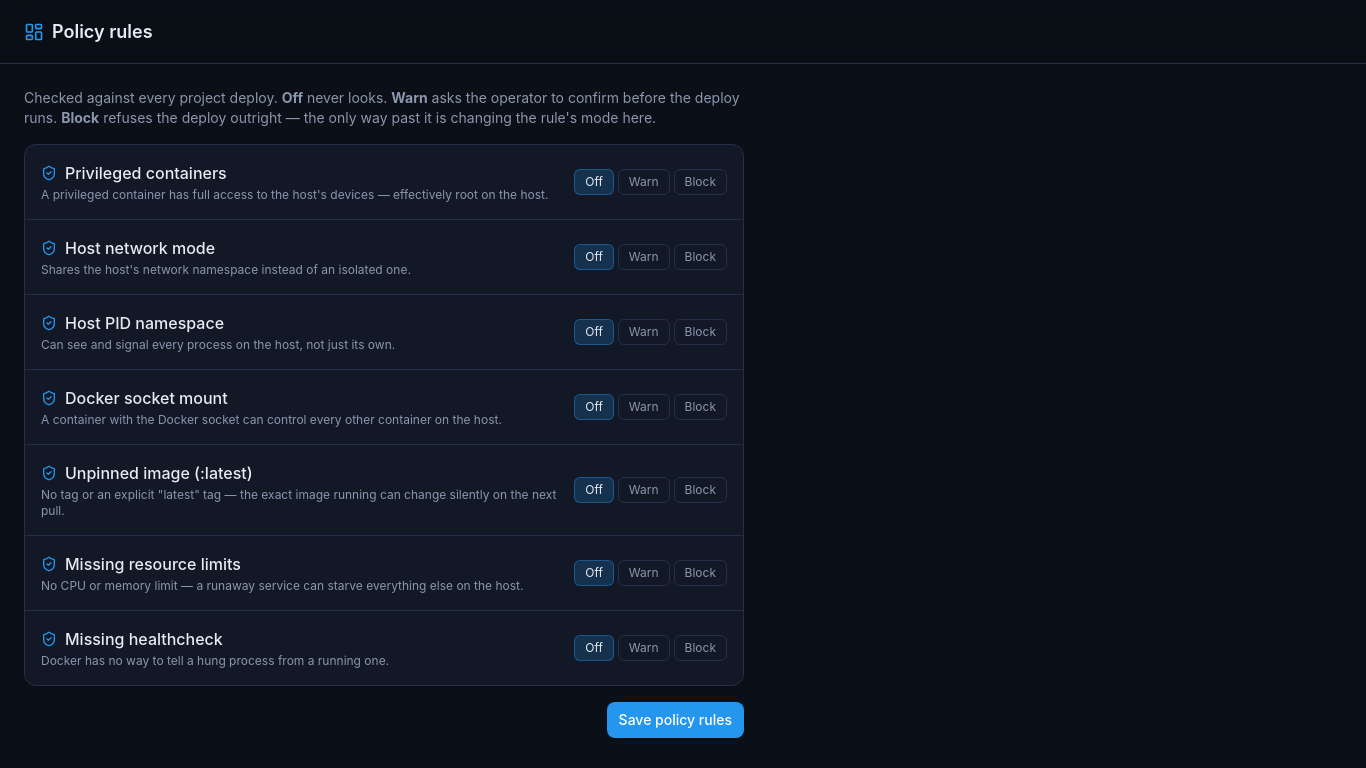
Scenario: PolicyRules › shows a failed save distinctly from a successful one
Click the button "Save policy rules" at (675, 720), box 607,702 -> 744,738
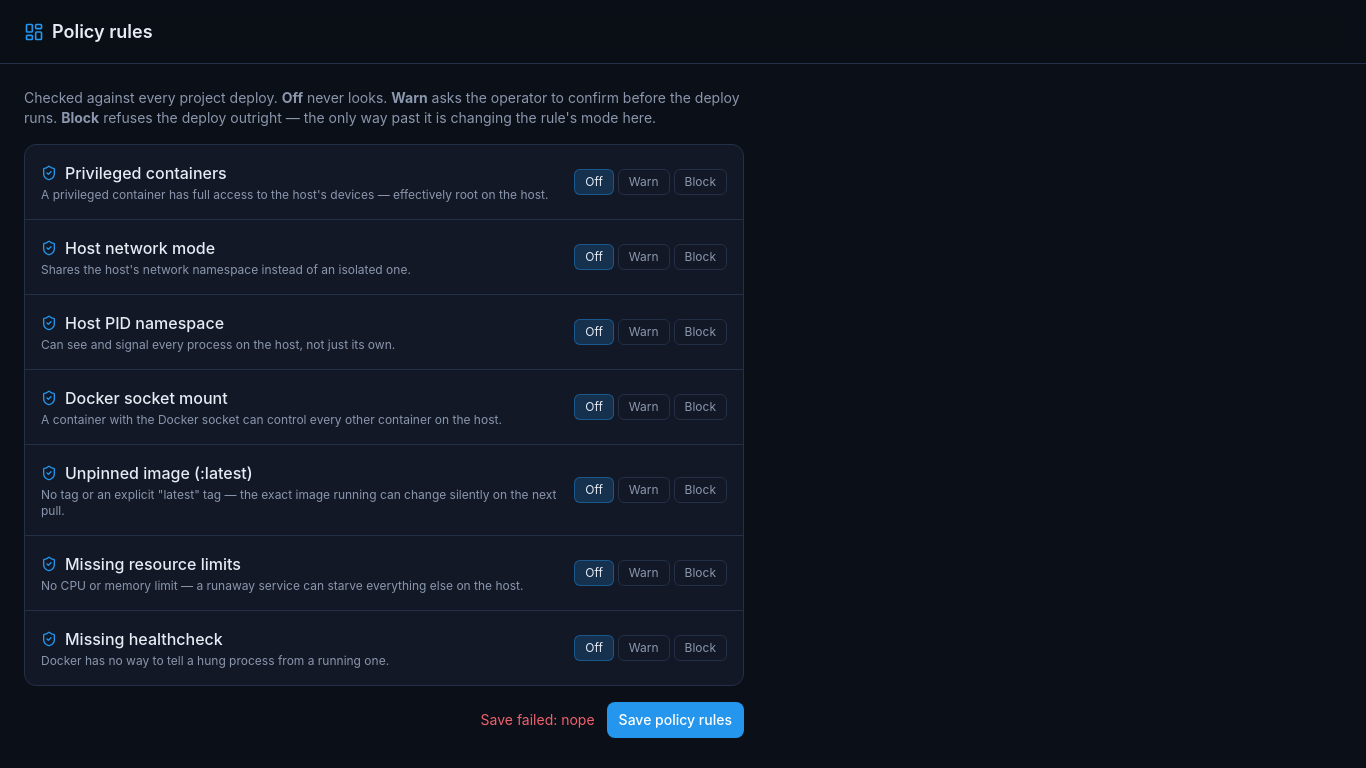
Now the text "Save failed: nope" is shown, box 480,710 -> 594,730
